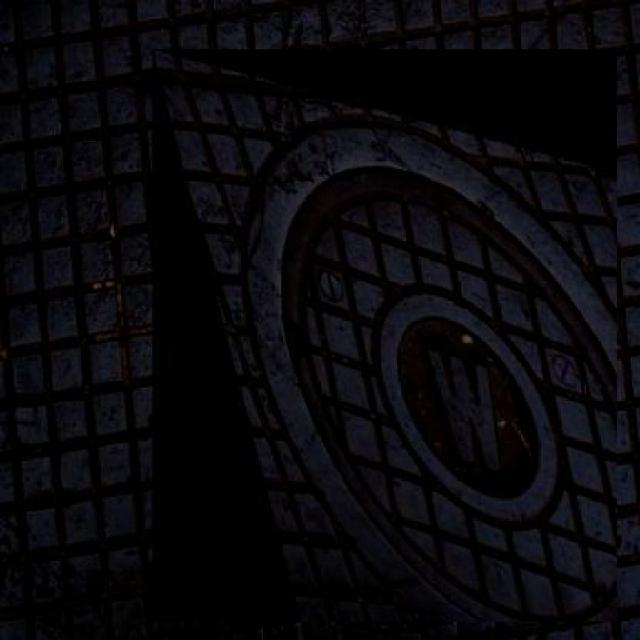Manhole: (152, 49, 617, 622)
